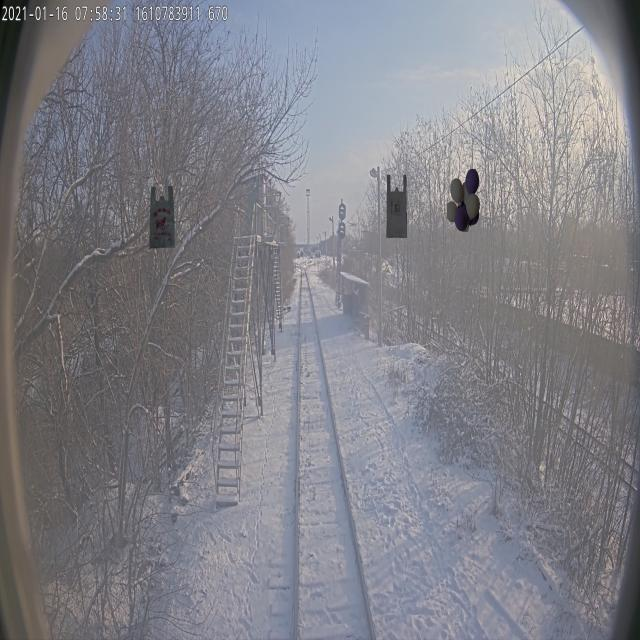balloon: (446, 168, 480, 232)
plastic bag: (149, 185, 175, 249), (386, 174, 407, 238)
